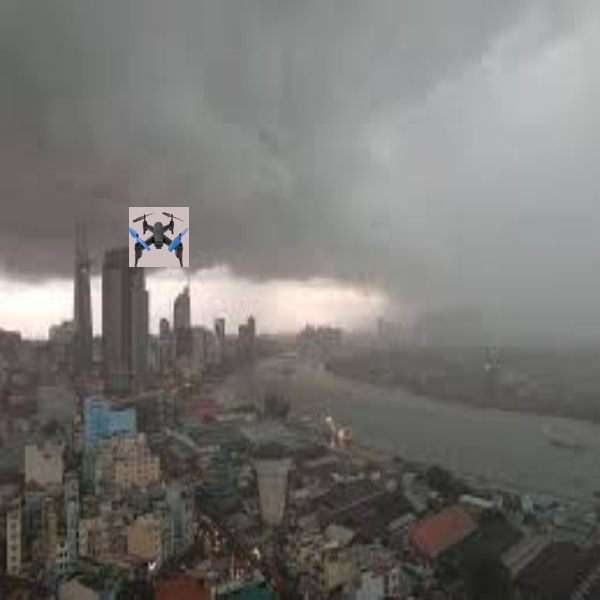drone: (126, 206, 191, 264)
